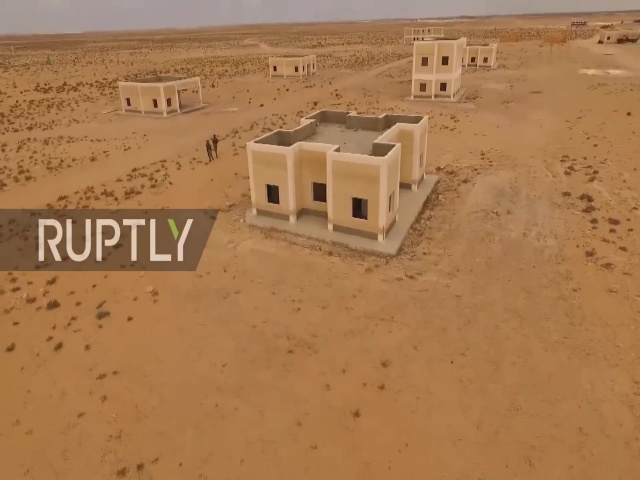person: (211, 131, 221, 158), (205, 138, 213, 162)
